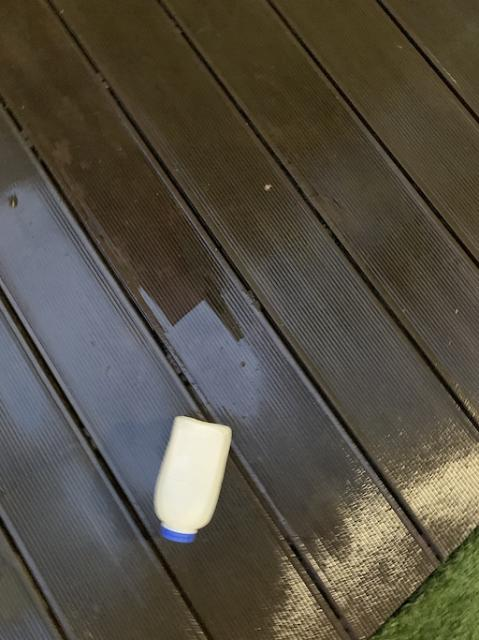plastic: (154, 415, 231, 541)
